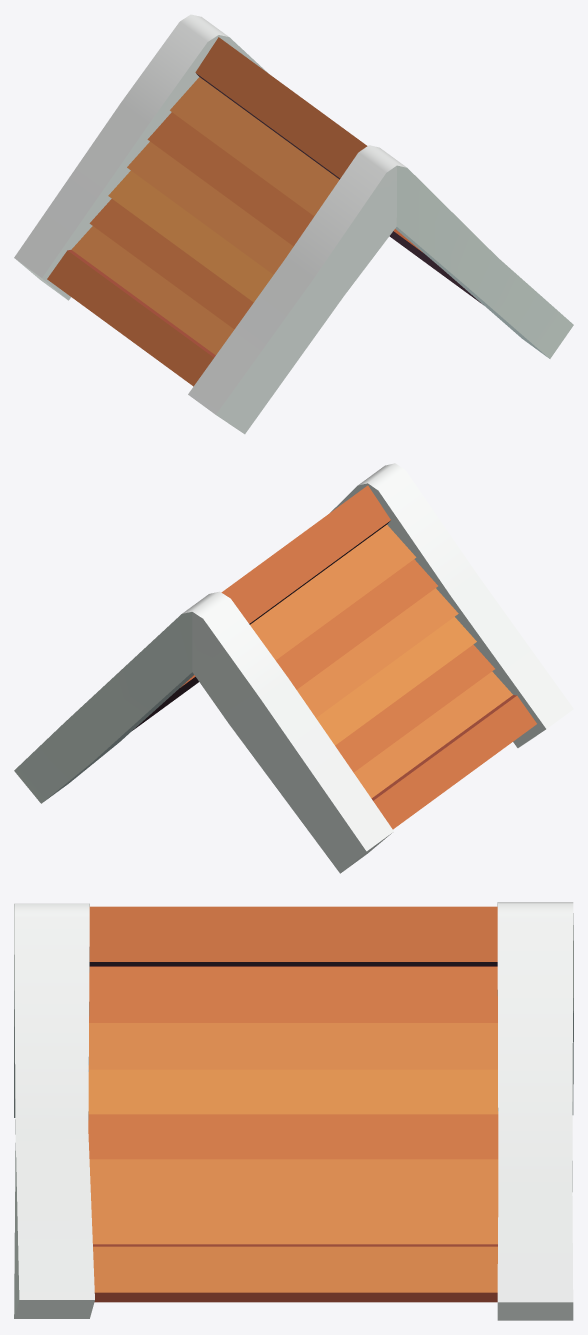
File: Roof03_Wood_White.glb
The picture shows the model from 3 angles, top to bottom: view 1: azimuth 30°, elevation 25°; view 2: azimuth 150°, elevation 25°; view 3: azimuth 270°, elevation 25°; orthographic projection. The views are drawn at different scales.
Visible parts, largest first — view 1: Roof03_Wood_White; view 2: Roof03_Wood_White; view 3: Roof03_Wood_White.
Boxes of the visible parts, x1,y1,x2,y2 form: Roof03_Wood_White: (14, 14, 573, 434); Roof03_Wood_White: (14, 463, 573, 873); Roof03_Wood_White: (14, 902, 573, 1320).
Size of the model in its own units: 2.41 by 1.48 by 2.38.
Materials: 1 (1 with a texture image).
